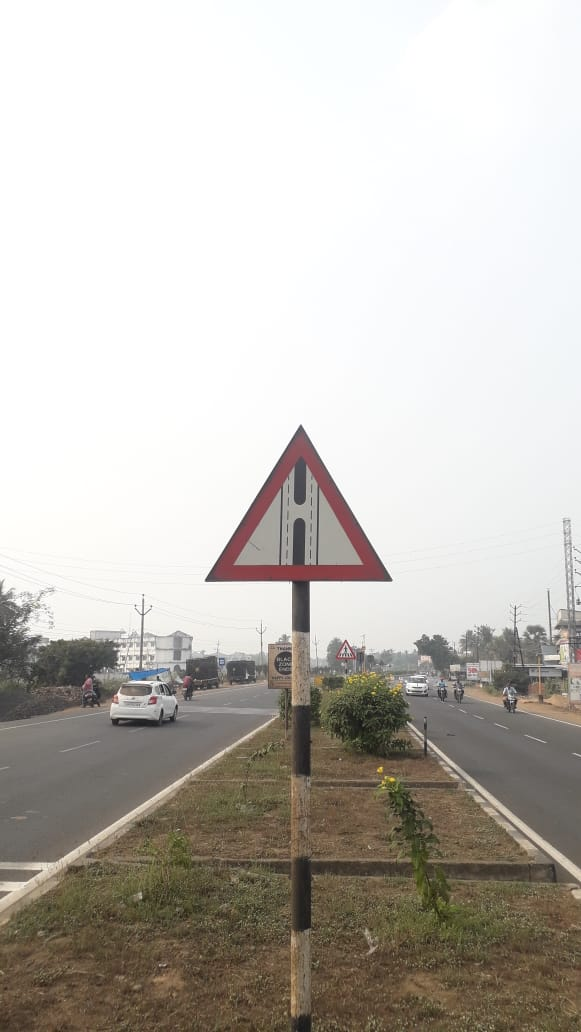highway go straight: (198, 408, 400, 616)
